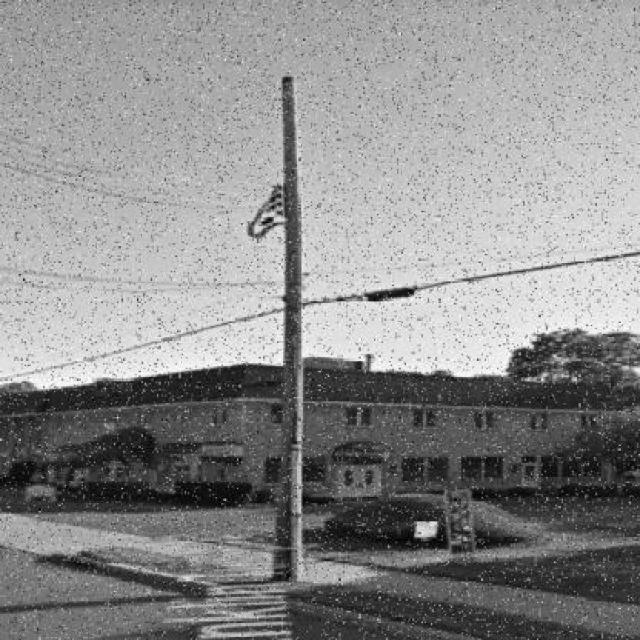pole: (139, 43, 393, 594)
